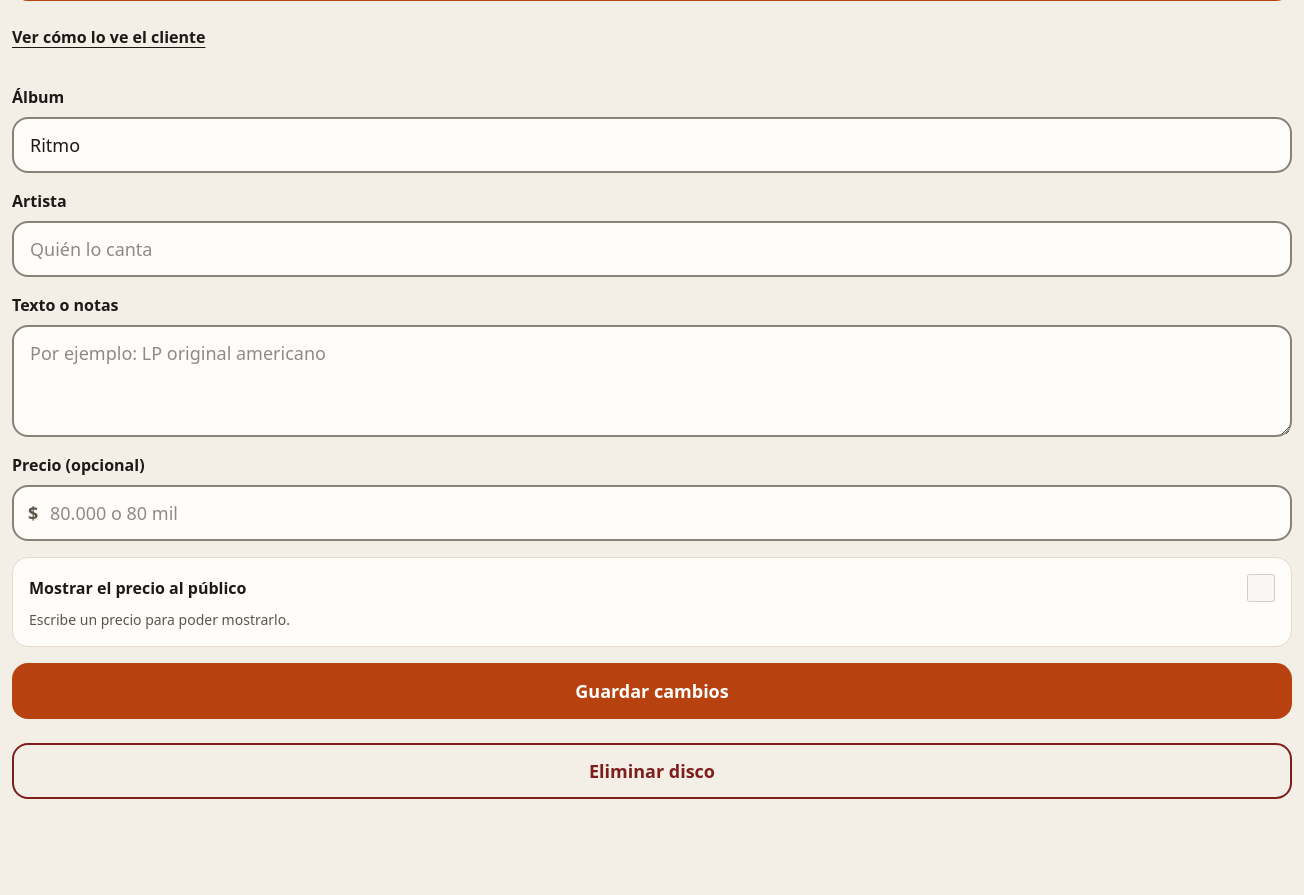
Test: RecordDetail › saves the fields and says so
(page scrolled)
Type "80 mil" into the field labelled "Precio (opcional)". click: (652, 513)
box: [12,485,1292,541]
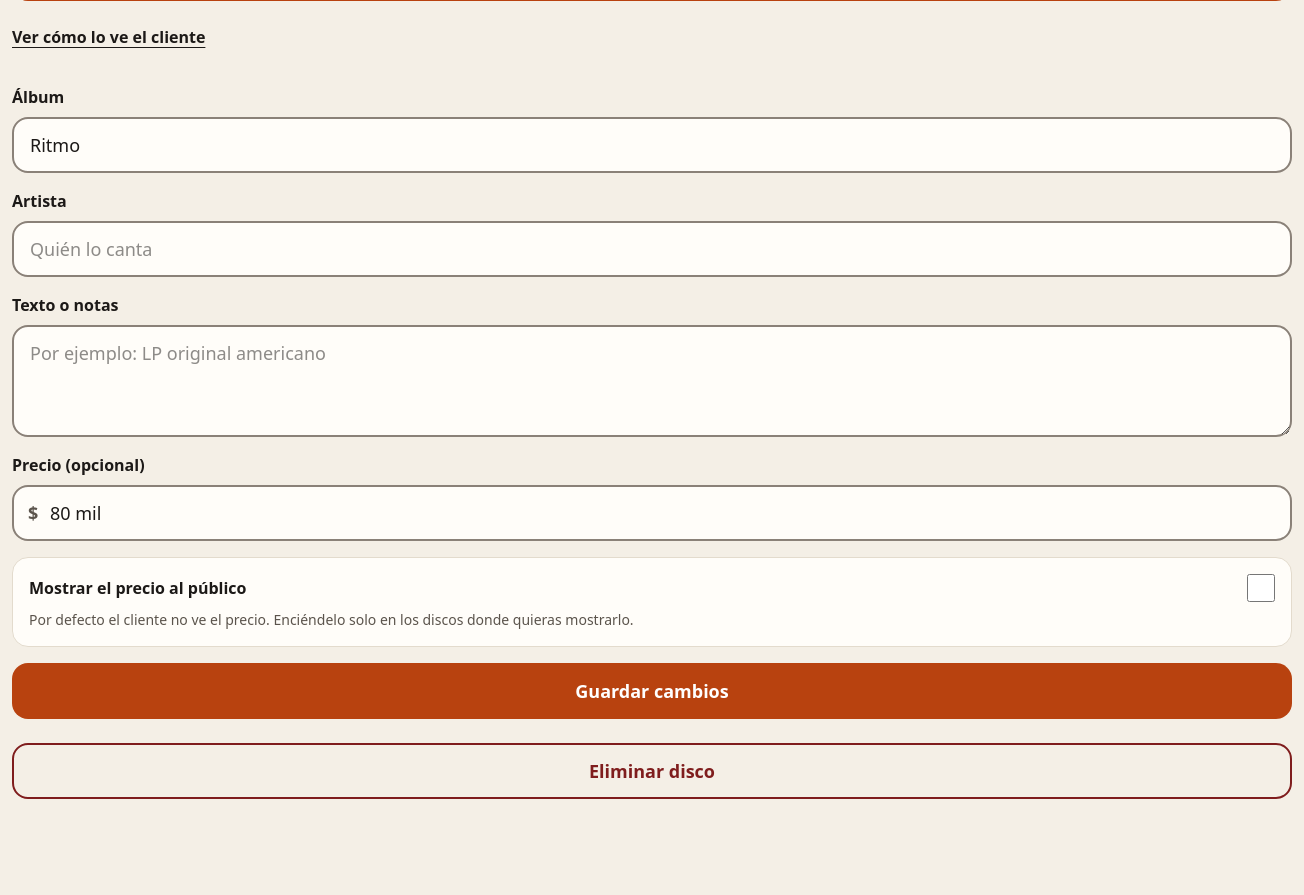
Click the button "Guardar cambios". click: (652, 691)
box: [12,663,1292,719]
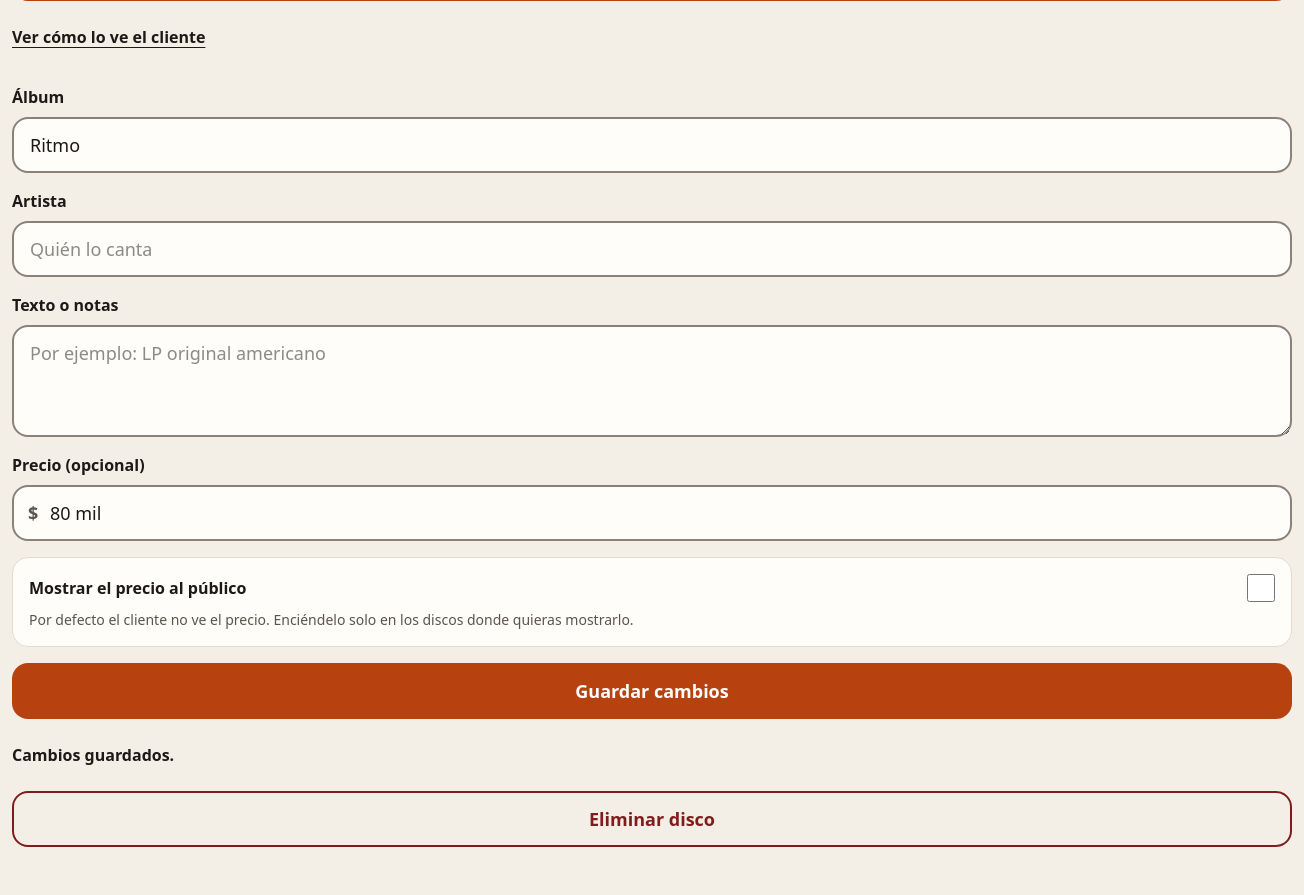
Check: the text "Cambios guardados." is shown, box [12,744,174,766]
